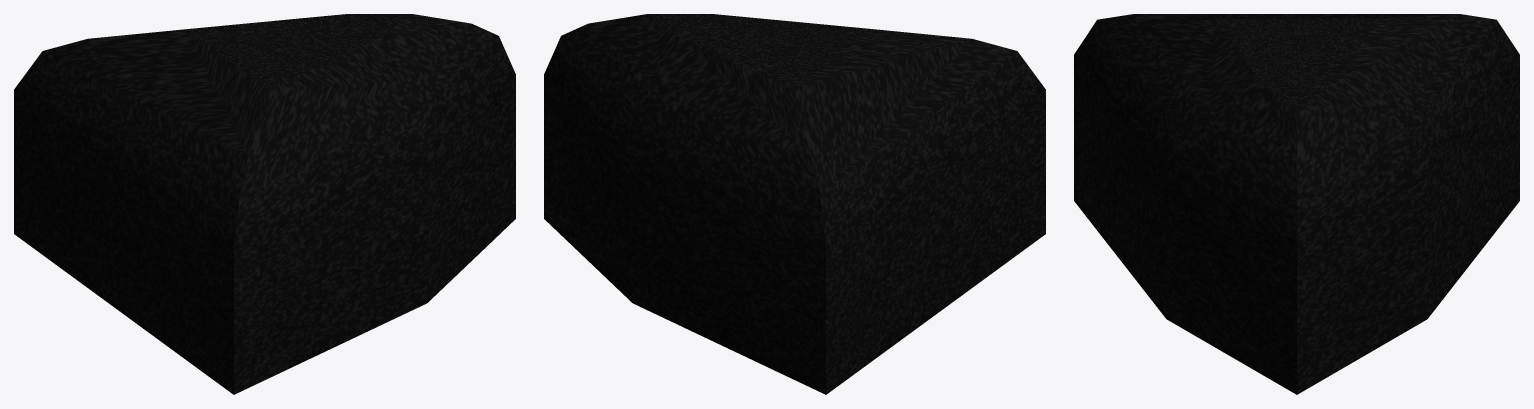
The model's file is carbonTriangle.obj.
3 views of the same model, side by side, from view 1: azimuth 30°, elevation 25°; view 2: azimuth 150°, elevation 25°; view 3: azimuth 270°, elevation 25° (orthographic).
Parts seen in each view (by area): view 1: carbonTriangle; view 2: carbonTriangle; view 3: carbonTriangle.
Part boxes in pixels (x1,y1,x2,y2): carbonTriangle: (14,14,515,394); carbonTriangle: (544,14,1045,394); carbonTriangle: (1074,14,1519,394).
Bounding box in the file's own units: 1.78 × 1 × 1.73.
1 material, 1 textured.
